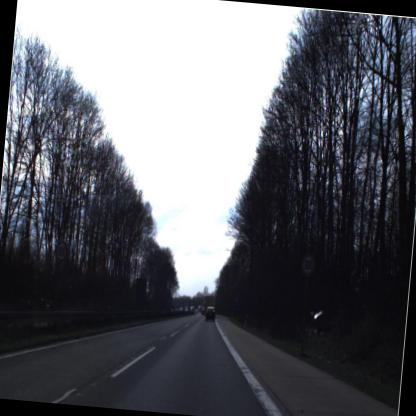prohibitory: (50, 237, 71, 272), (296, 249, 317, 280)
